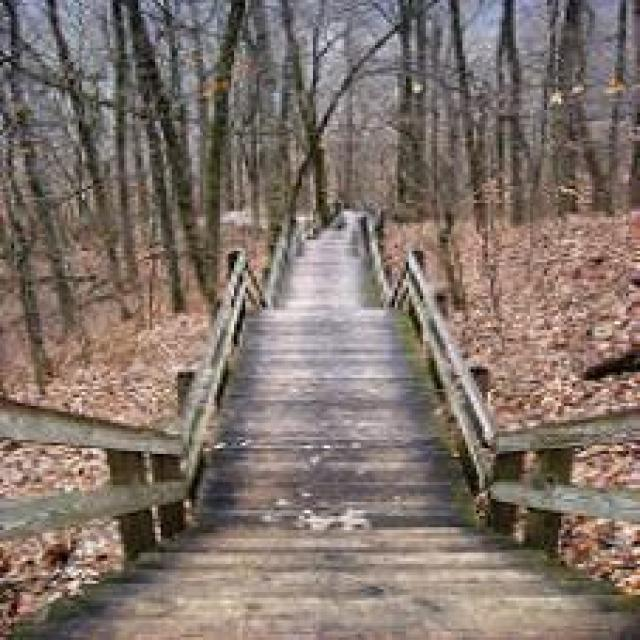downstair: (148, 495, 573, 639)
